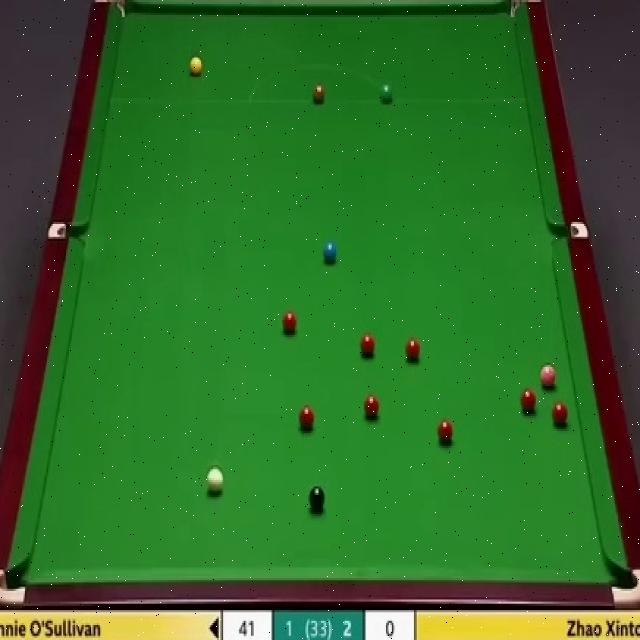black-ball: (308, 485, 326, 512)
blue-ball: (324, 242, 337, 265)
brown-ball: (312, 86, 326, 105)
green-ball: (380, 84, 393, 104)
pink-ball: (540, 363, 558, 391)
red-ball: (551, 400, 569, 427), (436, 419, 454, 446), (406, 336, 422, 362), (359, 334, 375, 359), (520, 390, 537, 413), (365, 395, 380, 421), (298, 406, 315, 428), (283, 310, 297, 333)
white-ball: (205, 467, 224, 497)
yellow-ball: (189, 57, 204, 80)
